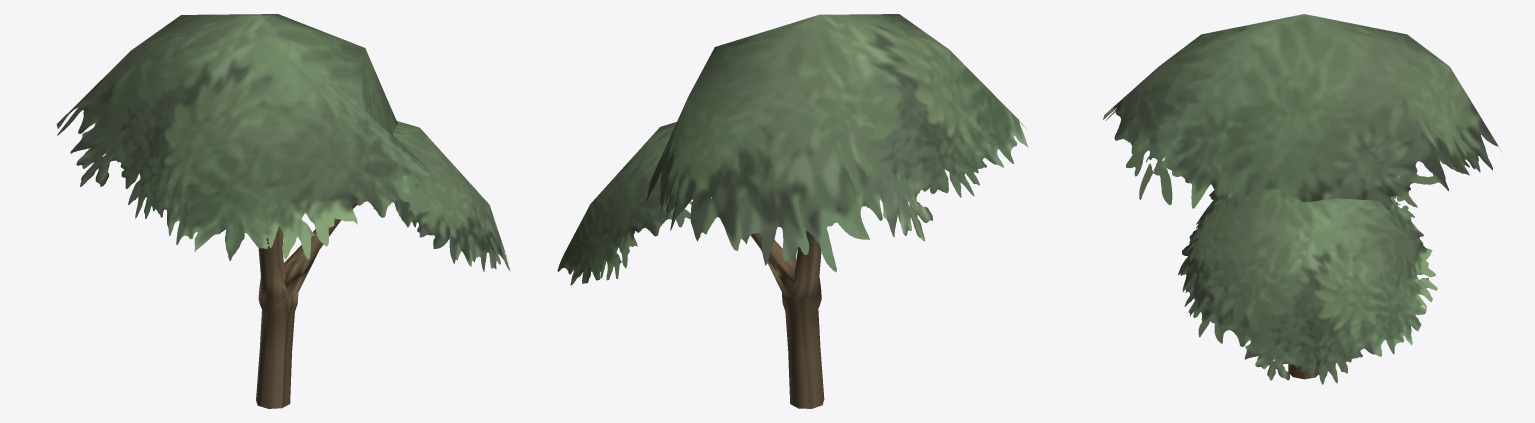
The model's file is ArvoreMediaPantanal.fbx.
3 renders of one model, left to right at view 1: azimuth 30°, elevation 25°; view 2: azimuth 150°, elevation 25°; view 3: azimuth 270°, elevation 25°, orthographic. The views are drawn at different scales.
Parts seen in each view (by area): view 1: ArvoreMediaPantanal; view 2: ArvoreMediaPantanal; view 3: ArvoreMediaPantanal.
Part boxes in pixels (x1,y1,x2,y2): ArvoreMediaPantanal: (56, 14, 510, 408); ArvoreMediaPantanal: (557, 14, 1028, 408); ArvoreMediaPantanal: (1103, 14, 1501, 384).
Size of the model in its own units: 119 by 109 by 122.
